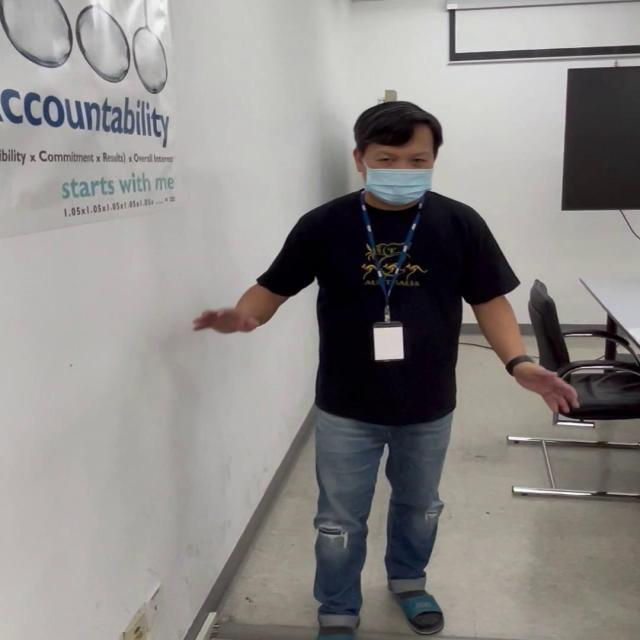bare_hand: (511, 362, 579, 420), (190, 294, 255, 341)
